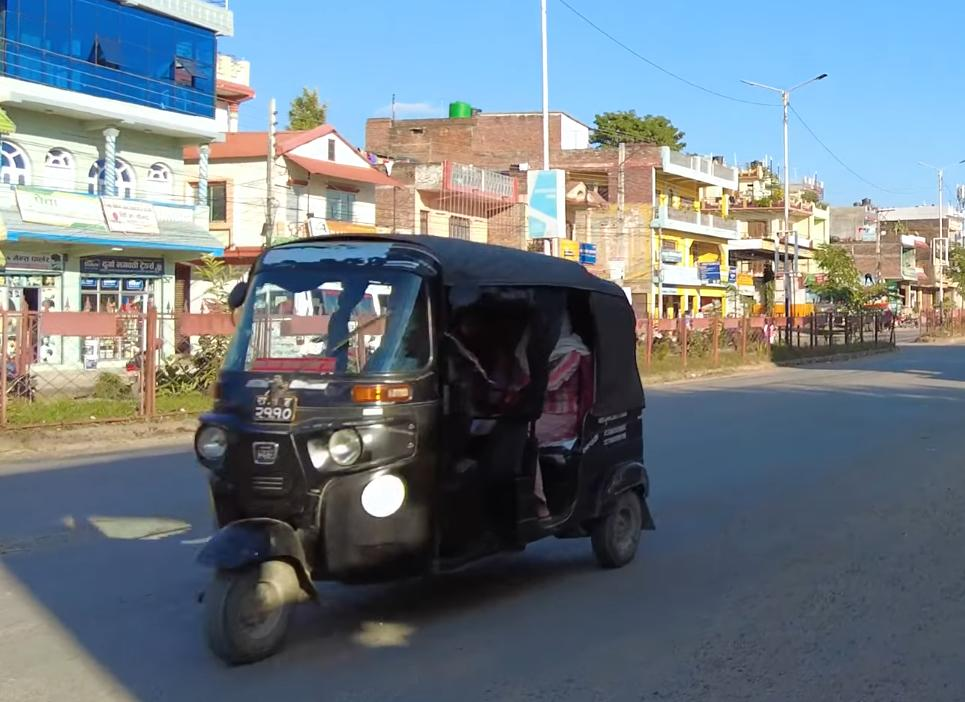auto_rickshaw: (189, 223, 672, 666)
